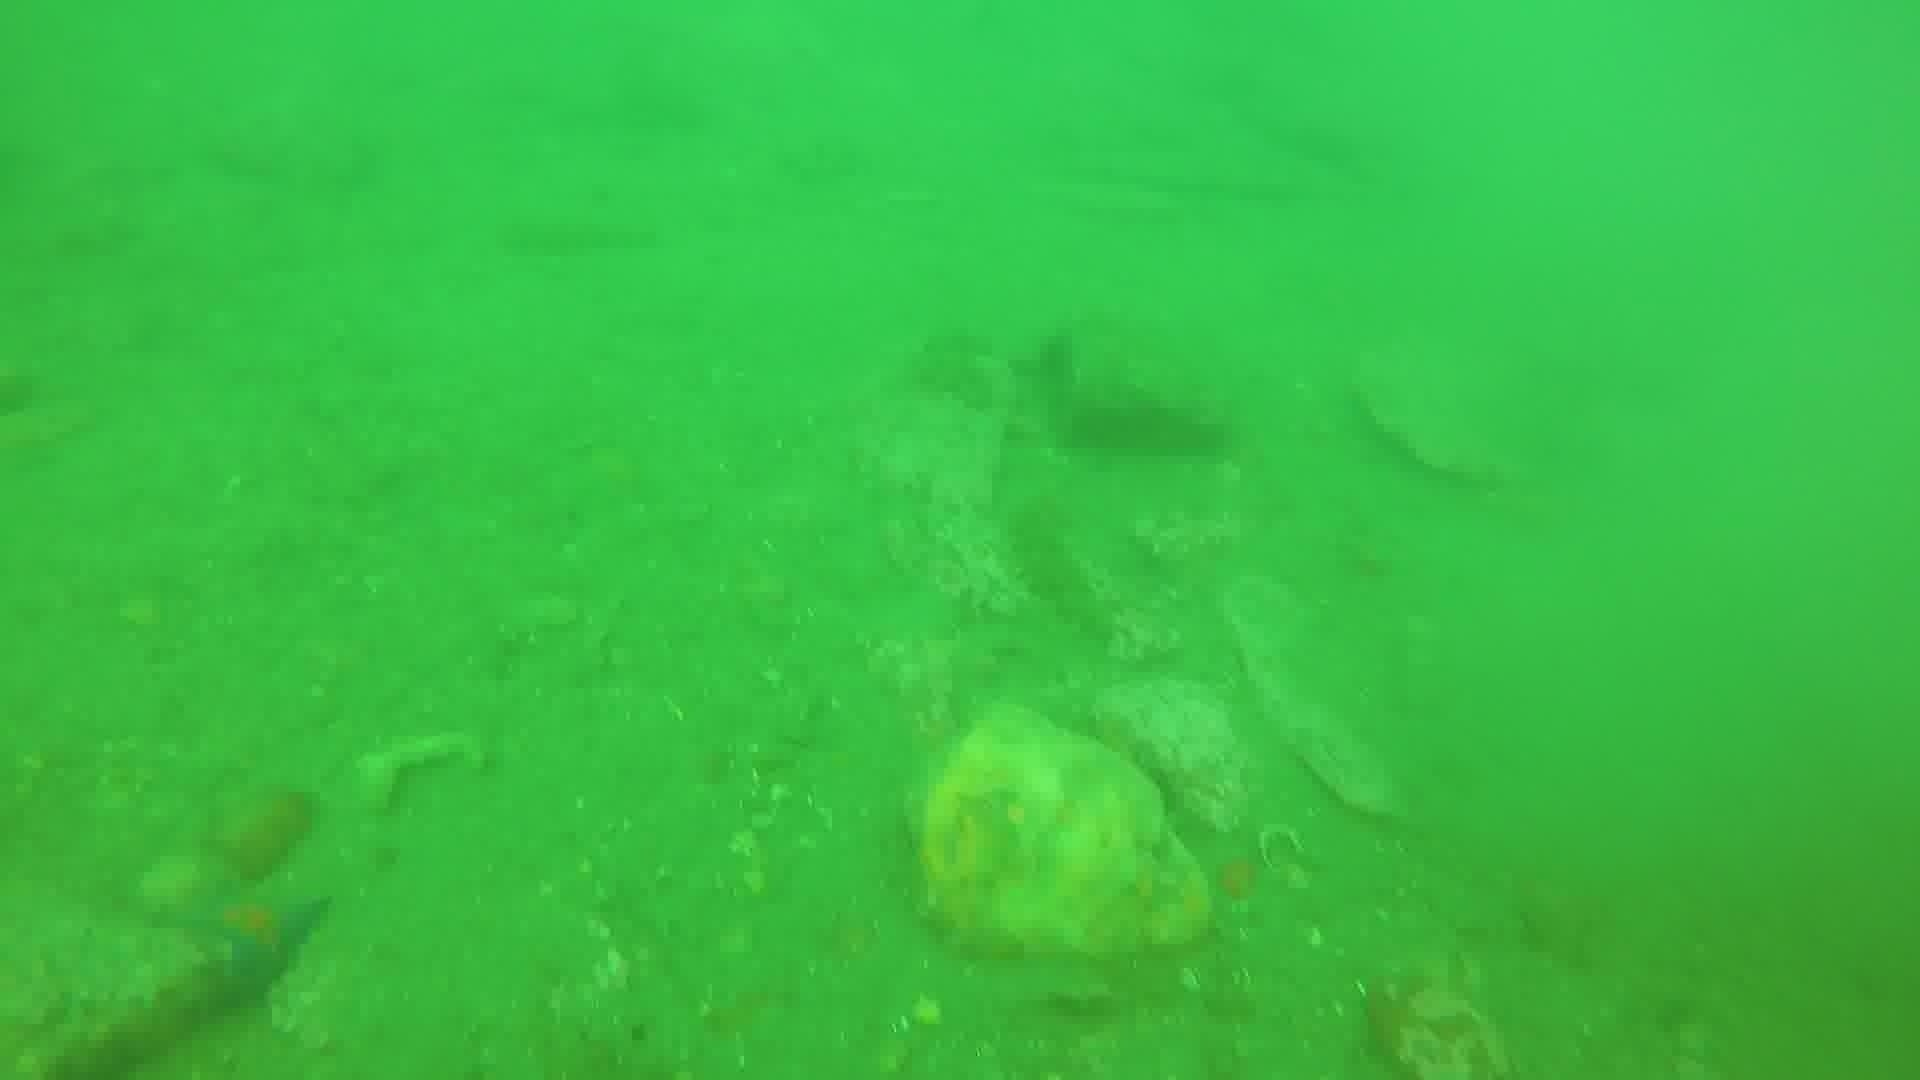starfish: (171, 873, 335, 998), (1182, 820, 1276, 916)
